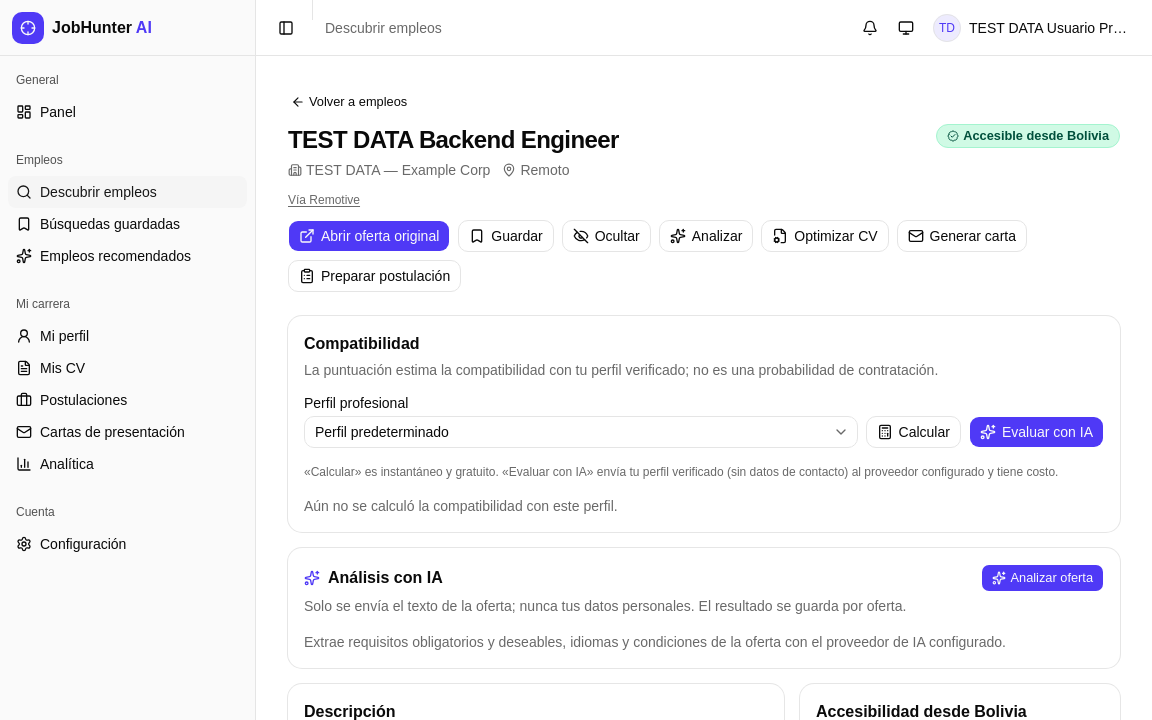
Scenario: Compatibilidad › computes the deterministic match and shows score, bars, strengths, gaps and the disclaimer
Expected: the text "La puntuación estima la compatibilidad con tu perfil verificado; no es una probabilidad de contratación." is shown, [304, 362, 938, 378]
Click the button "Calcular": x=913, y=432 [866, 416, 961, 448]
(page scrolled)
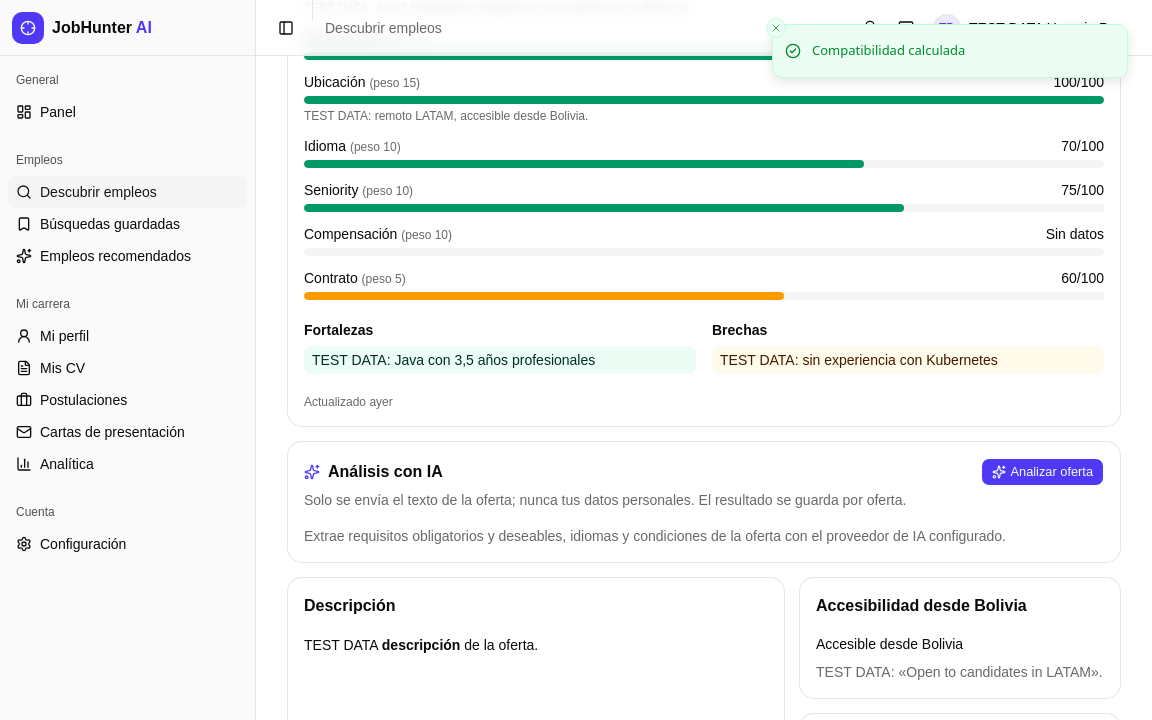
Expected: the text "TEST DATA: 4 de 5 habilidades obligatorias con experiencia profesional." is shown, [304, 1, 690, 15]
Now the list item "TEST DATA: Java con 3,5 años profesionales" is shown, box [304, 346, 696, 374]
Now the list item "TEST DATA: sin experiencia con Kubernetes" is shown, box [712, 346, 1104, 374]
